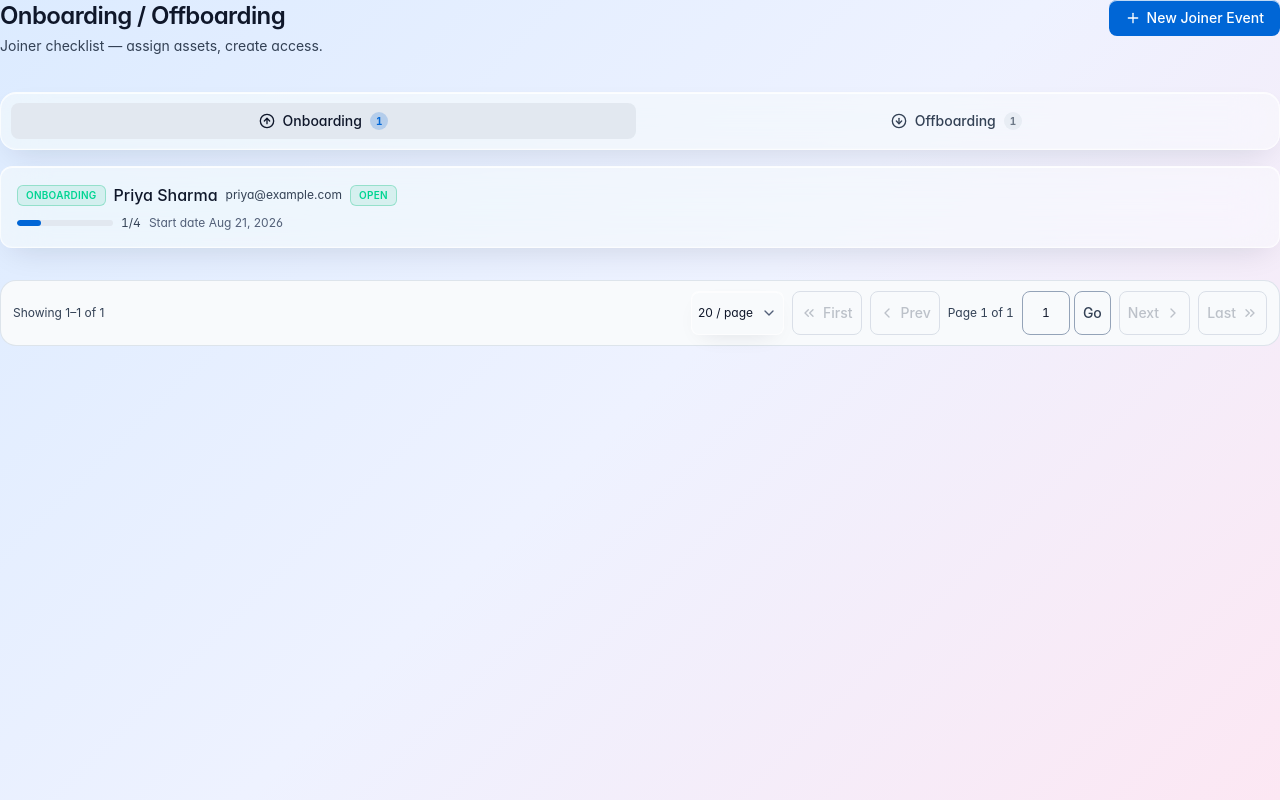
Onboarding submit validation (FORM-02) › empty create submit shows inline errors, blocks createOnboardingEvent, and focuses name
The width and height of the screenshot is (1280, 800).
Expected: the button with test id "onboarding-card" is shown, top-left (0, 166), bottom-right (1279, 248)
Click the button "New Joiner Event" at (1194, 18), box top-left (1109, 0), bottom-right (1279, 36)
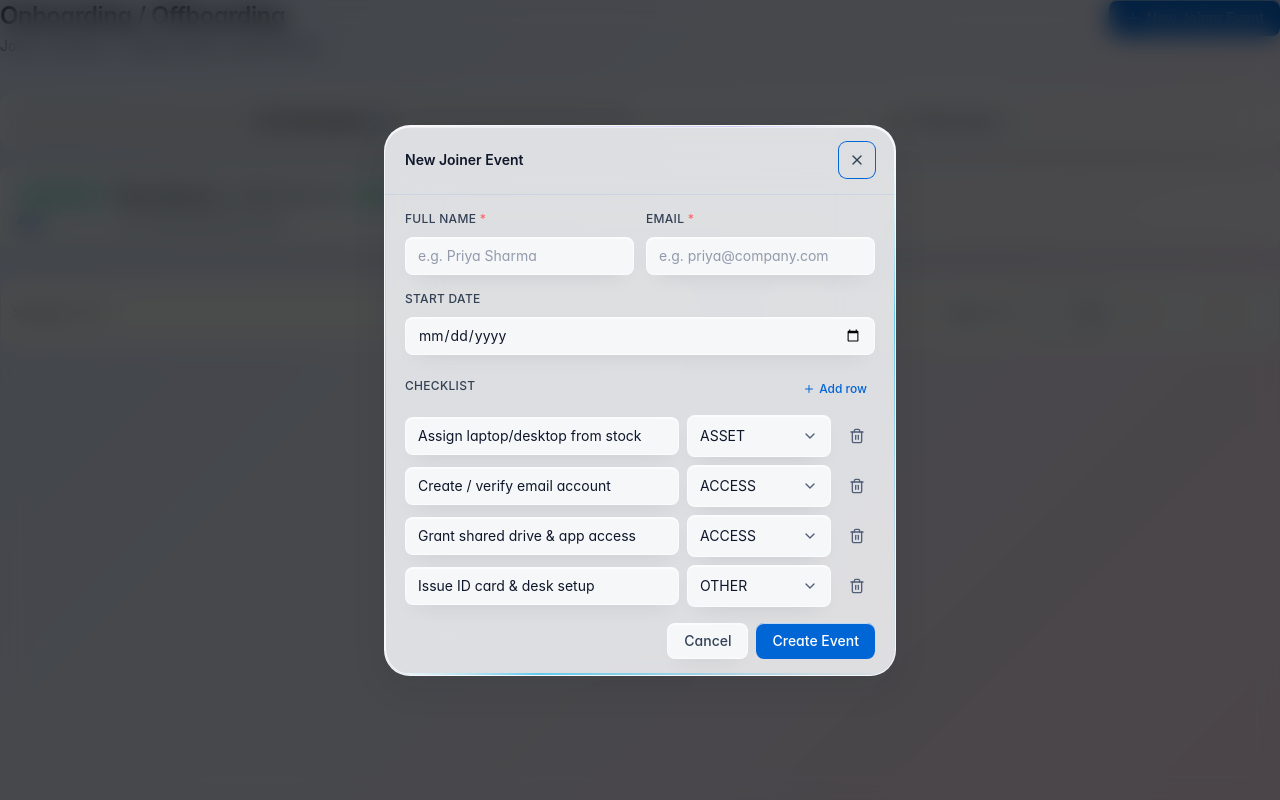
Now the text "Full name *" is shown, box top-left (405, 210), bottom-right (486, 226)
Click the button "Create Event" at (816, 640), box top-left (756, 622), bottom-right (875, 658)
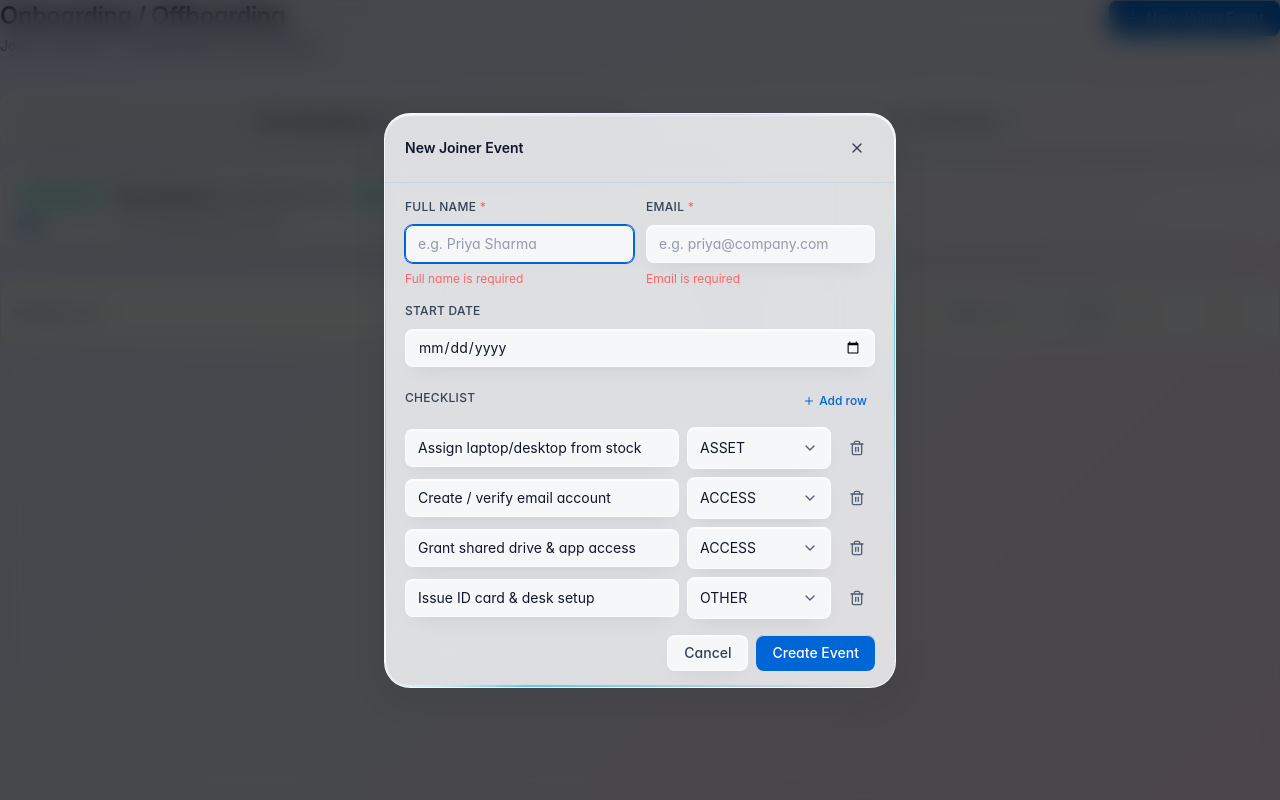
Now the text "Email is required" is shown, box top-left (646, 270), bottom-right (740, 286)
